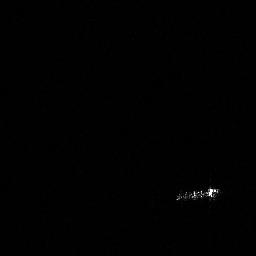ship: (173, 185, 223, 202)
